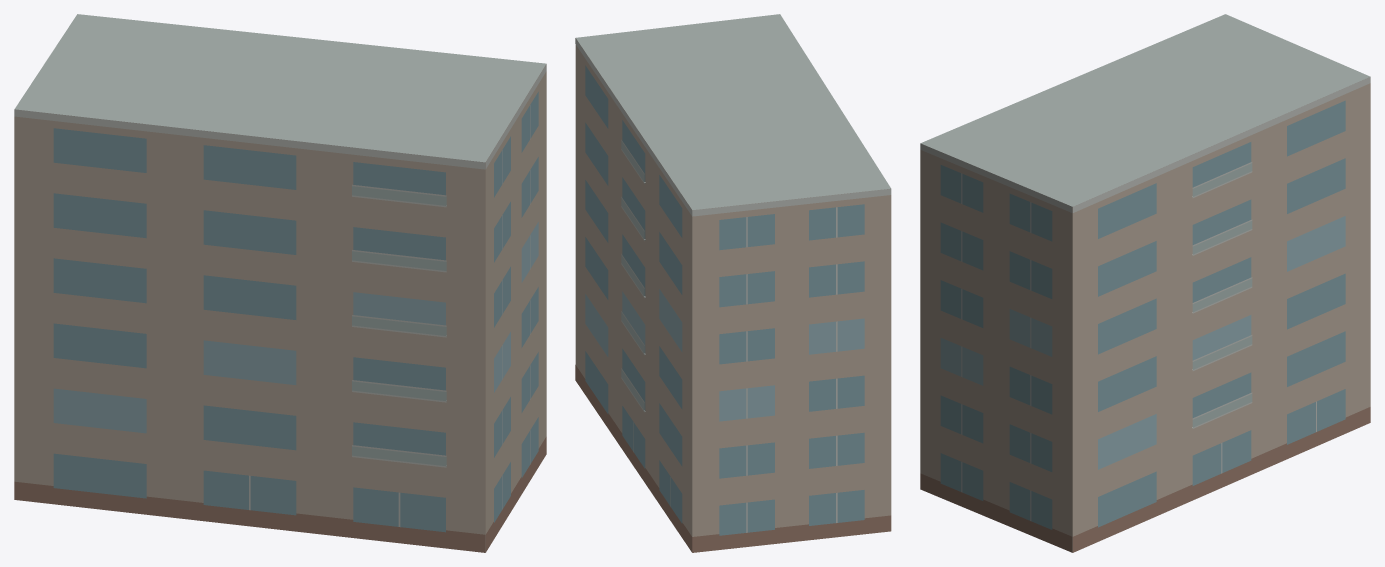
File: survey-upis-33034111.glb
3 renders of one model, left to right at view 1: azimuth 30°, elevation 25°; view 2: azimuth 150°, elevation 25°; view 3: azimuth 270°, elevation 25°, orthographic. The views are drawn at different scales.
Parts seen in each view (by area): view 1: survey-upis-33034111.tmp; view 2: survey-upis-33034111.tmp; view 3: survey-upis-33034111.tmp.
Part boxes in pixels (x1,y1,x2,y2): survey-upis-33034111.tmp: (14, 14, 546, 552); survey-upis-33034111.tmp: (575, 14, 891, 552); survey-upis-33034111.tmp: (920, 14, 1370, 552).
Size of the model in its own units: 15.79 by 13.2 by 15.58.
